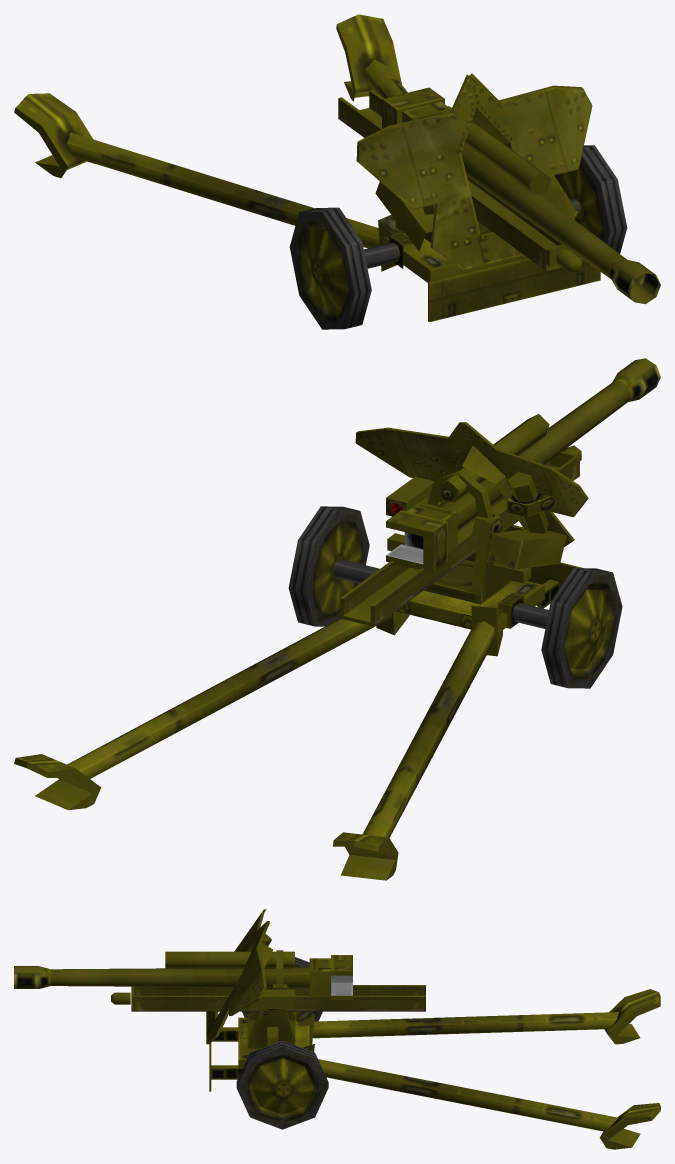
The model's file is GERleFH18.dae.
3 views of the same model, one above another, from view 1: azimuth 30°, elevation 25°; view 2: azimuth 150°, elevation 25°; view 3: azimuth 270°, elevation 25° (orthographic). The views are drawn at different scales.
Visible parts, largest first — view 1: carriage, wheels, barrel, sleeve; view 2: carriage, wheels, barrel, sleeve; view 3: carriage, sleeve, barrel, wheels.
Boxes of the visible parts, x1,y1,x2,y2 form: carriage: (14, 14, 600, 321); wheels: (289, 145, 627, 329); barrel: (382, 87, 660, 304); sleeve: (338, 90, 582, 273); carriage: (14, 422, 588, 880); wheels: (288, 506, 622, 688); barrel: (386, 358, 660, 572); sleeve: (340, 414, 581, 626); carriage: (206, 909, 660, 1149); sleeve: (111, 950, 425, 1011); barrel: (14, 955, 352, 999); wheels: (236, 957, 328, 1129).
Bounding box in the file's own units: 21.48 × 46.12 × 13.29.
